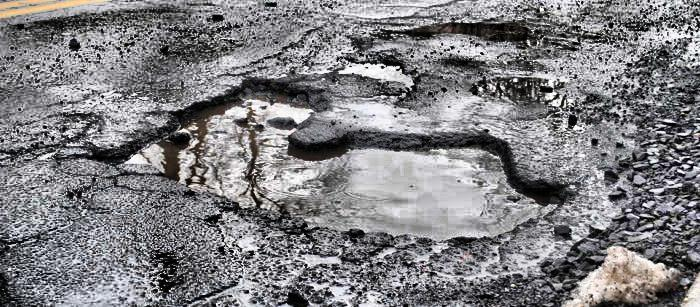pothole: (109, 68, 574, 249)
